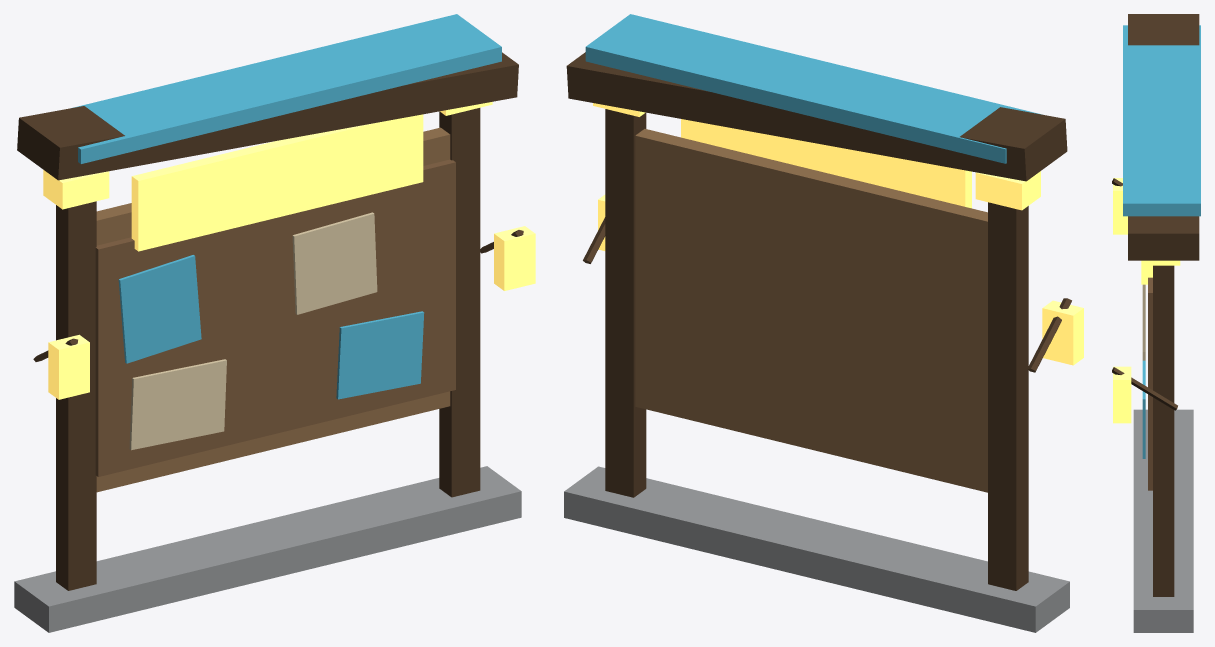
Rendered from jobs_board_blue.lod1.glb.
The picture shows the model from 3 angles, left to right: view 1: azimuth 30°, elevation 25°; view 2: azimuth 150°, elevation 25°; view 3: azimuth 270°, elevation 25°; orthographic projection. The views are drawn at different scales.
Size of the model in its own units: 6.62 by 6.45 by 1.23.
